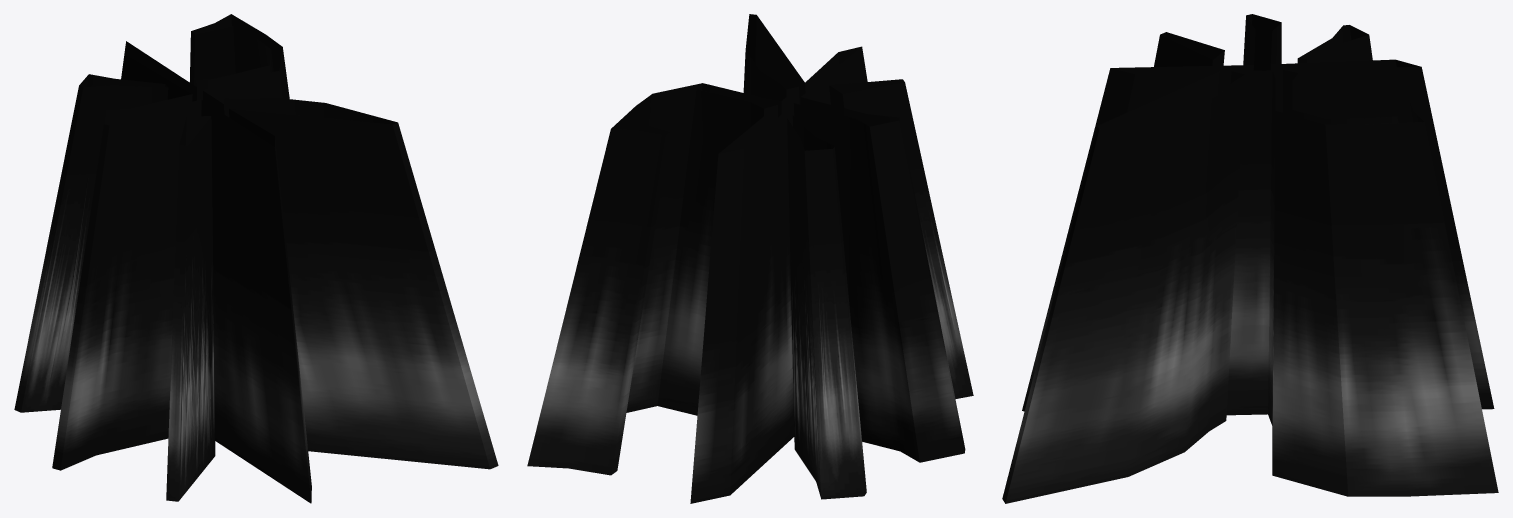
Rendered from 0251_chongwujiemian_light_z01.glb.
3 renders of one model, left to right at view 1: azimuth 30°, elevation 25°; view 2: azimuth 150°, elevation 25°; view 3: azimuth 270°, elevation 25°, orthographic. The views are drawn at different scales.
Bounding box in the file's own units: 1.84 × 1.69 × 2.2.
Materials: 1 (1 with a texture image).
